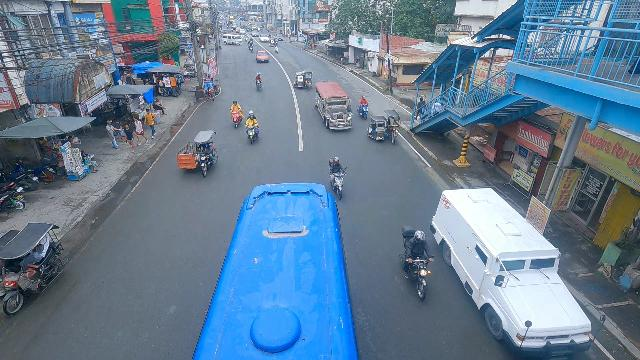car: (254, 50, 269, 63), (259, 34, 270, 43), (276, 35, 283, 41), (252, 31, 259, 37)
jeepney: (315, 80, 354, 132)
motorcycle: (397, 224, 433, 300), (327, 156, 349, 200), (243, 115, 262, 146), (230, 100, 244, 129), (357, 96, 369, 121), (254, 74, 262, 91), (249, 43, 254, 52), (274, 44, 279, 53), (250, 36, 254, 44), (244, 34, 248, 42), (248, 40, 251, 49)
van: (429, 187, 597, 353), (222, 34, 242, 46)
